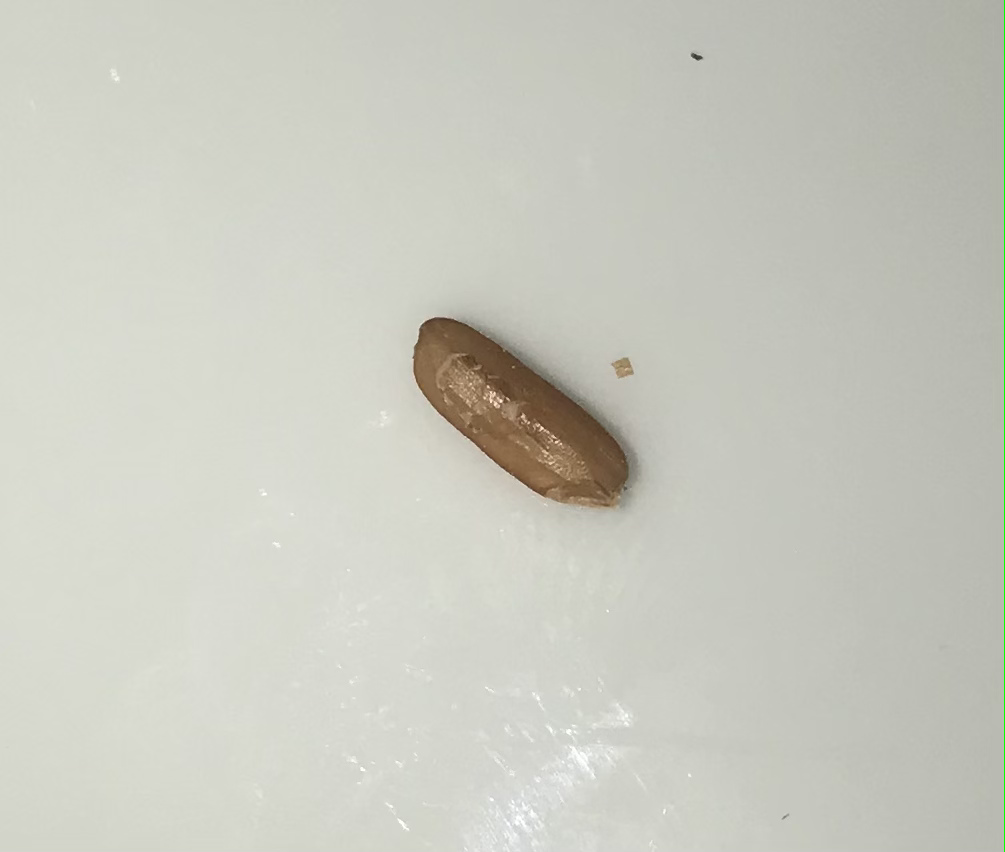Gao Lut Dien Bien: (400, 294, 637, 524)
